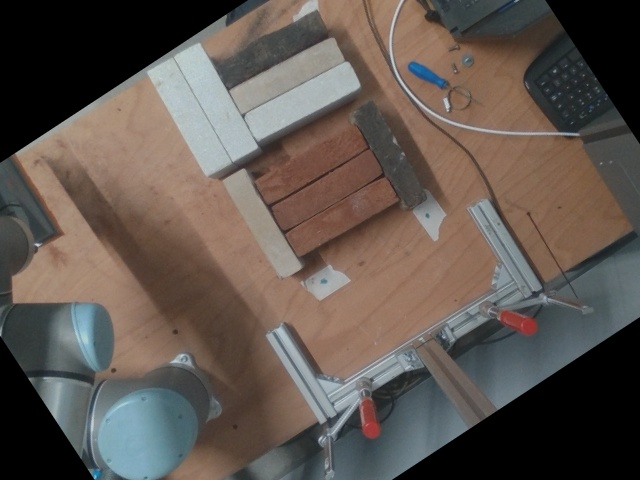brick-side: (146, 57, 232, 176), (172, 41, 258, 160), (242, 60, 361, 141), (229, 36, 345, 115), (285, 176, 397, 256), (269, 149, 381, 229), (255, 124, 367, 203), (215, 12, 328, 89), (222, 169, 301, 279), (349, 99, 427, 210)
